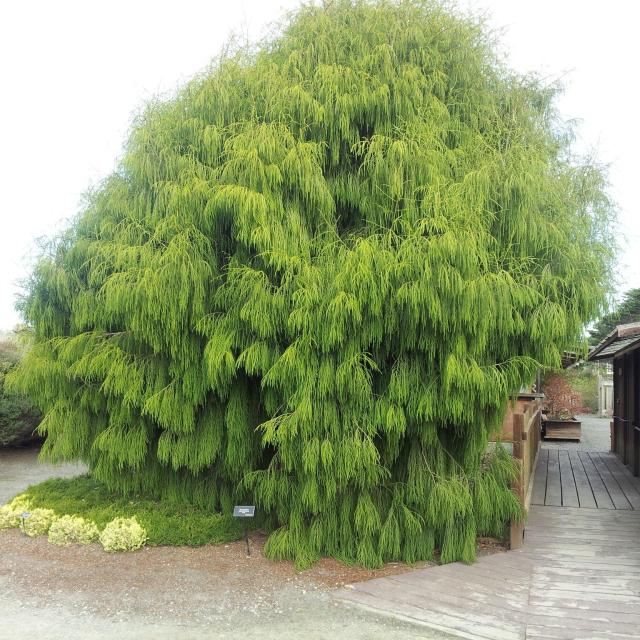Rimu: (19, 11, 604, 561)
